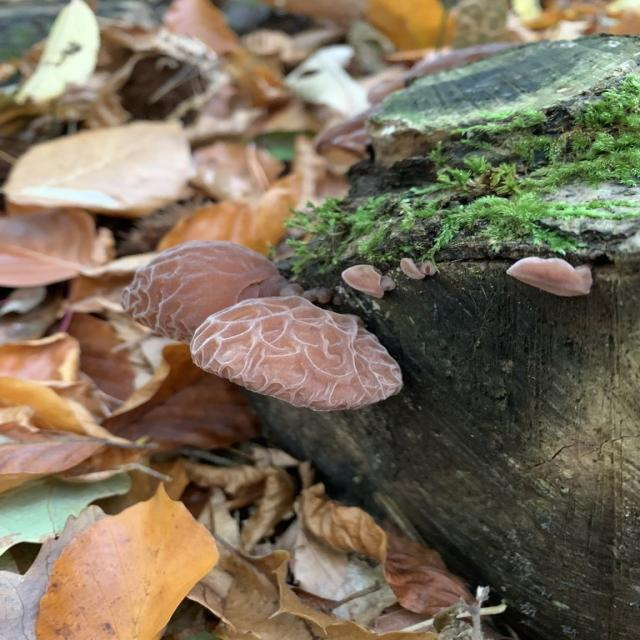Matang: (187, 292, 409, 414), (118, 238, 286, 345)
primordia: (507, 255, 597, 302), (335, 258, 388, 303), (393, 255, 442, 282)
